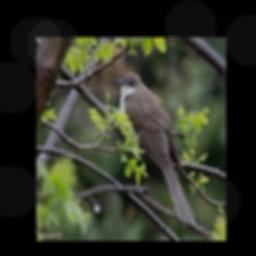Cuckoo: (114, 72, 197, 229)
